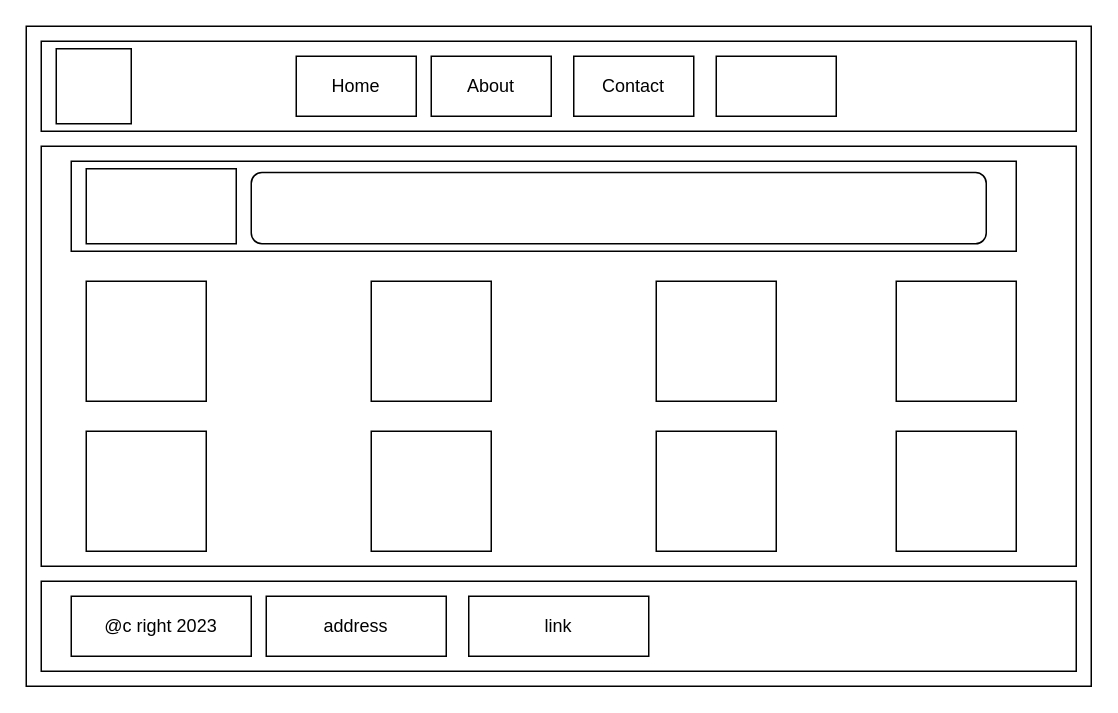
The diagram is 1118 pixels wide and 713 high, and some of its shapes have lost their labels. The shapes that lost their labels are listed below. From the top down, each one's centre as x and y in pixels, then its label:
At (x=93, y=85): "logo".
At (x=160, y=205): "search".
